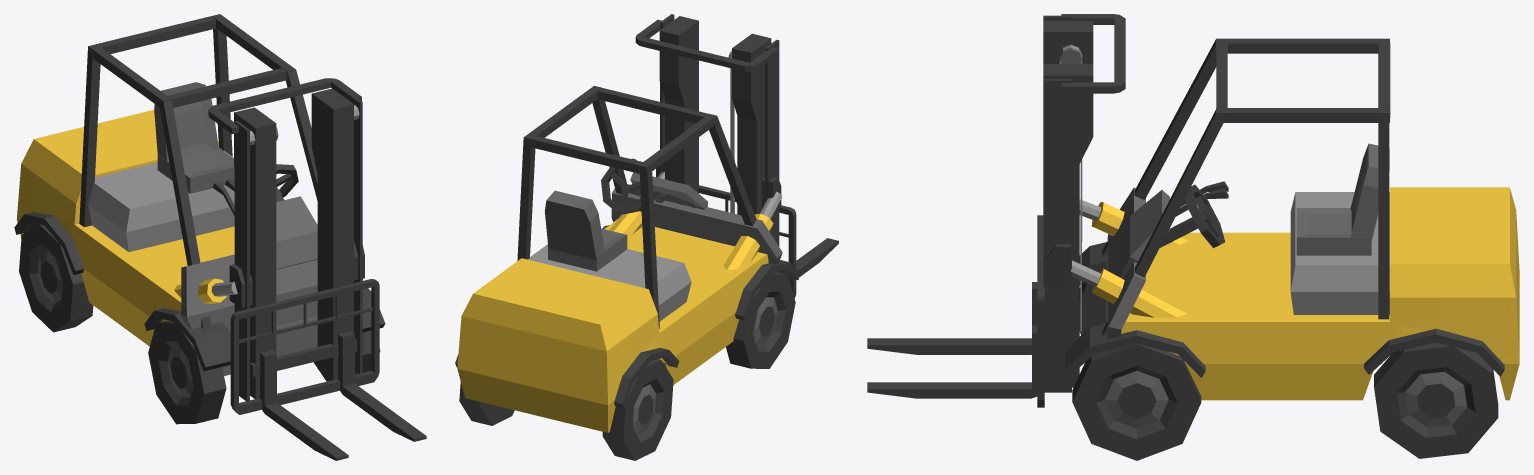
The model's file is forklift_a.gltf.
The picture shows the model from 3 angles, left to right: view 1: azimuth 30°, elevation 25°; view 2: azimuth 150°, elevation 25°; view 3: azimuth 270°, elevation 25°; orthographic projection. The views are drawn at different scales.
Visible parts, largest first — view 1: forklift_a; view 2: forklift_a; view 3: forklift_a.
Part boxes in pixels (x1=…): forklift_a: x1=14, y1=14, x2=426, y2=460; forklift_a: x1=455, y1=14, x2=838, y2=460; forklift_a: x1=867, y1=14, x2=1519, y2=460.
Bounding box in the file's own units: 1.21 × 2.03 × 3.3.
1 material, 1 textured.
